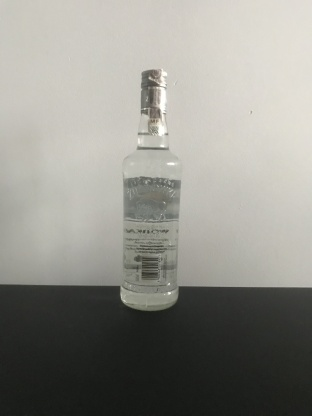nakretka: (138, 67, 169, 114)
